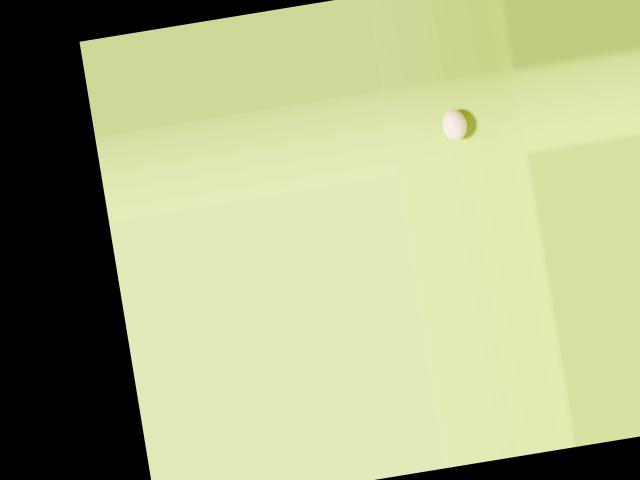egg: (441, 106, 469, 141)
